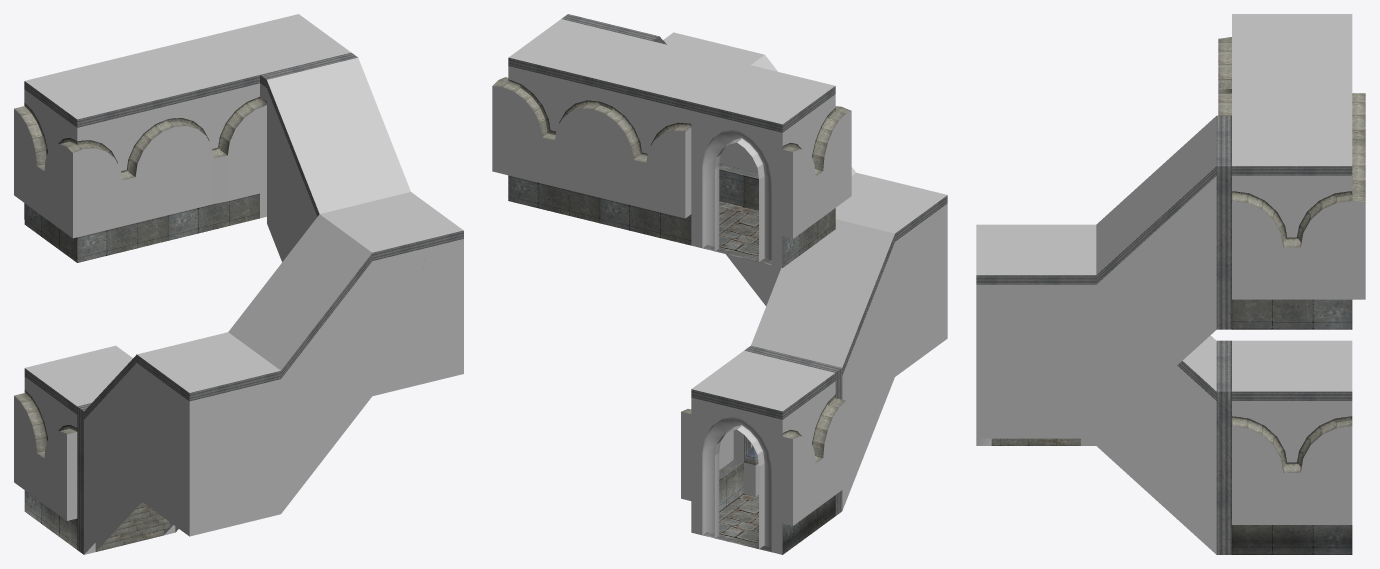
File: Stairs_2.FBX
3 views of the same model, side by side, from view 1: azimuth 30°, elevation 25°; view 2: azimuth 150°, elevation 25°; view 3: azimuth 270°, elevation 25° (orthographic). The views are drawn at different scales.
Parts seen in each view (by area): view 1: Stairs 2; view 2: Stairs 2; view 3: Stairs 2.
Part boxes in pixels (x1,y1,x2,y2): Stairs 2: (14, 14, 463, 554); Stairs 2: (492, 14, 947, 554); Stairs 2: (976, 14, 1365, 554).
Bounding box in the file's own units: 1613 × 2250 × 1621.
